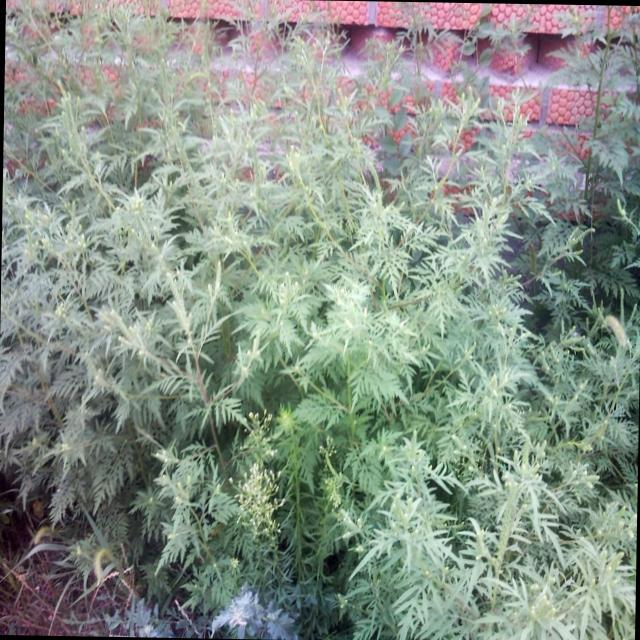ambrosia: (0, 94, 238, 456), (280, 74, 457, 388), (432, 403, 638, 640)
